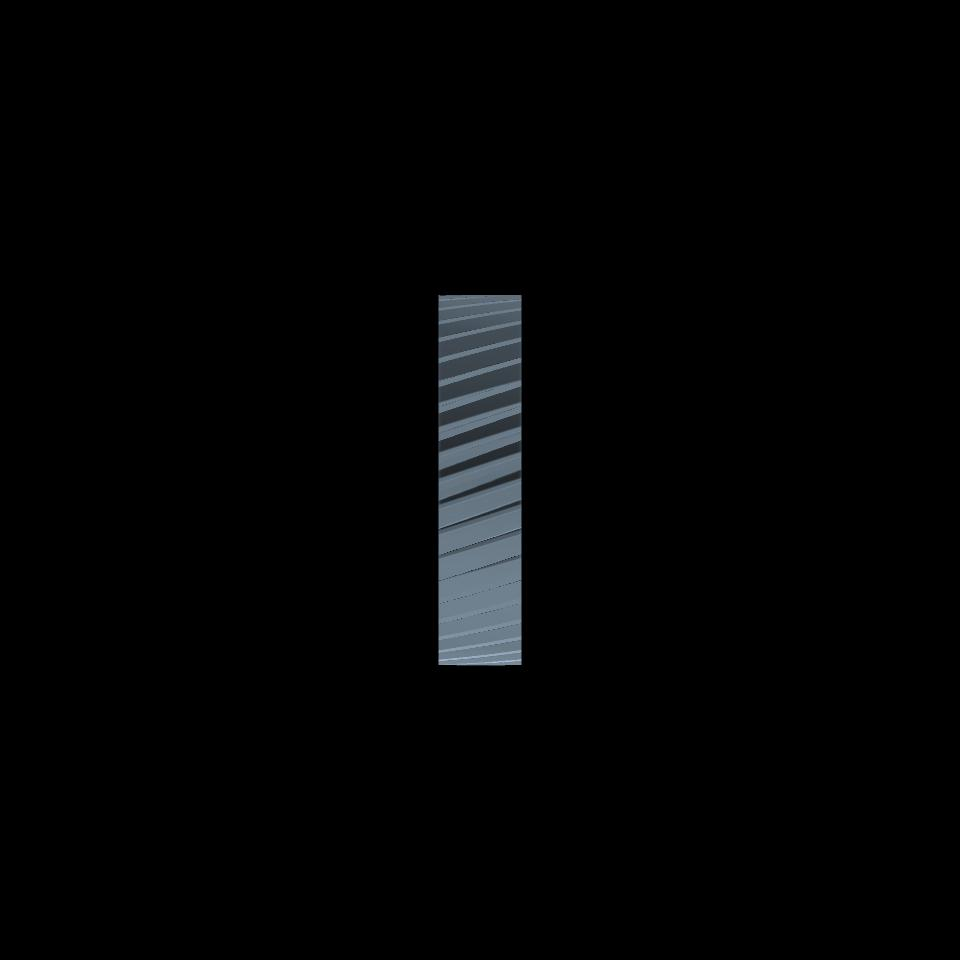Helical: (439, 294, 521, 666)
